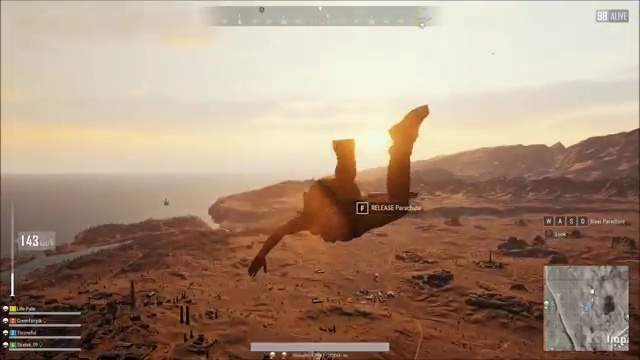Player: (233, 113, 461, 281)
